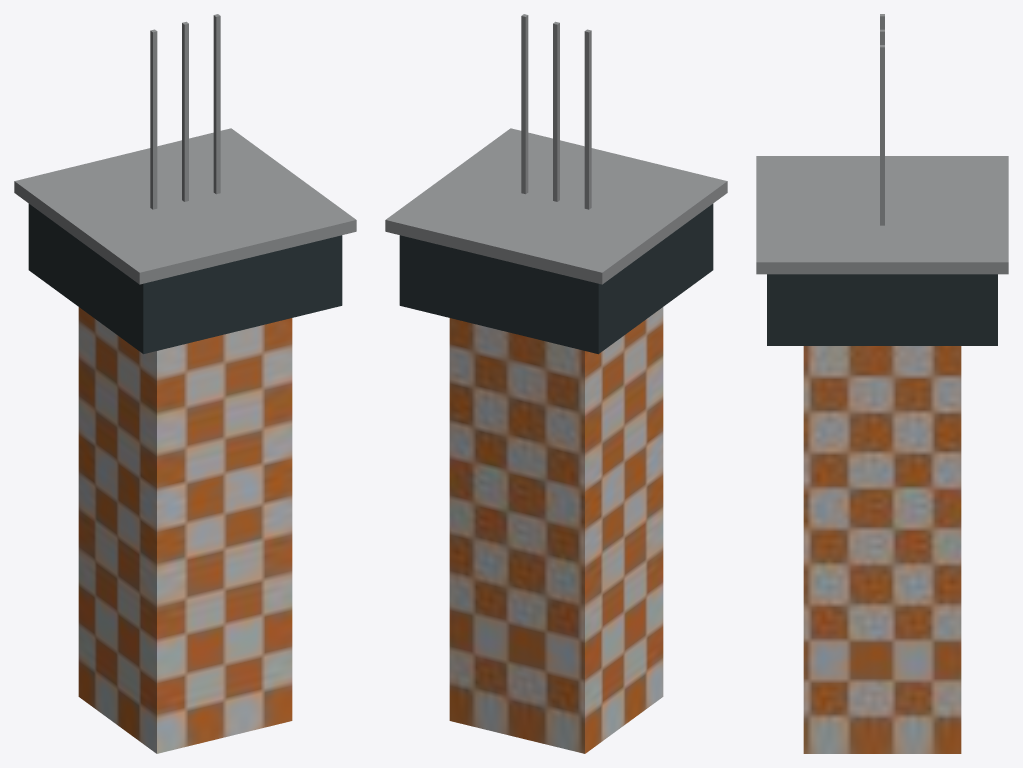
Rendered from sdsc_torre_xadrez.leve.glb.
3 views of the same model, side by side, from view 1: azimuth 30°, elevation 25°; view 2: azimuth 150°, elevation 25°; view 3: azimuth 270°, elevation 25° (orthographic).
Visible parts, largest first — view 1: sdsc_torre_xadrez; view 2: sdsc_torre_xadrez; view 3: sdsc_torre_xadrez.
Boxes of the visible parts, x1,y1,x2,y2 form: sdsc_torre_xadrez: [14, 14, 356, 753]; sdsc_torre_xadrez: [385, 14, 727, 753]; sdsc_torre_xadrez: [756, 14, 1008, 753].
Bounding box in the file's own units: 9.6 × 29 × 9.6.
3 materials, 1 textured.
